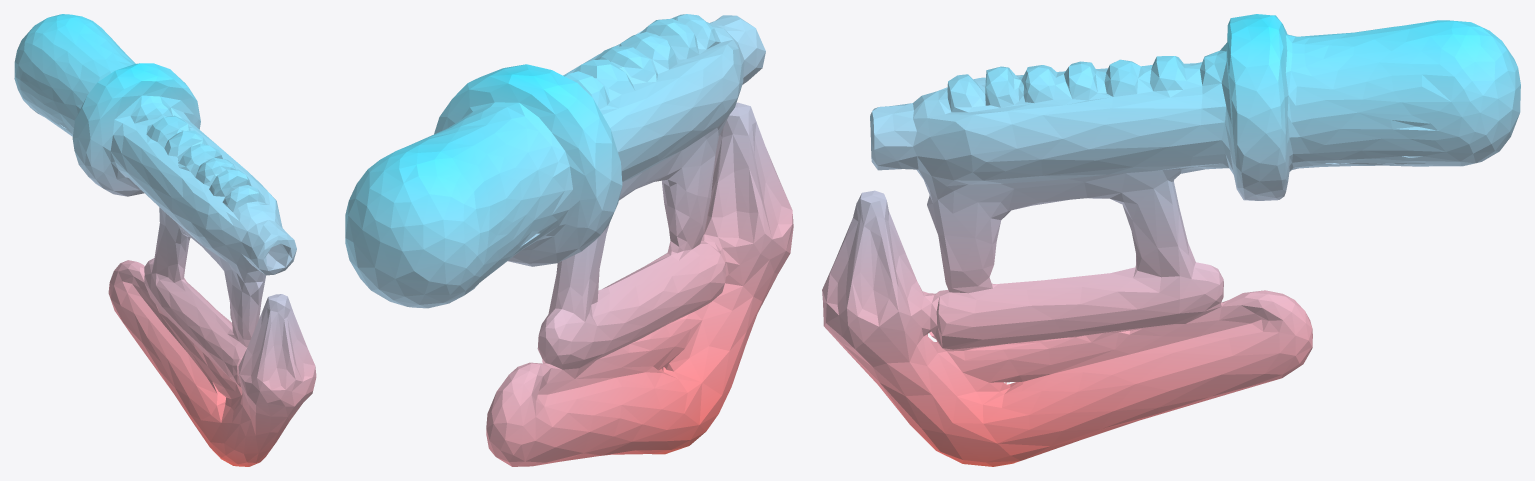
File: 131_cyb_laser_gradient_fish_scales_2846_2026_10_03_0225ed.glb
The picture shows the model from 3 angles, left to right: view 1: azimuth 30°, elevation 25°; view 2: azimuth 150°, elevation 25°; view 3: azimuth 270°, elevation 25°; orthographic projection. The views are drawn at different scales.
Parts seen in each view (by area): view 1: geometry_0; view 2: geometry_0; view 3: geometry_0.
Boxes of the visible parts, x1=… form: geometry_0: x1=14, y1=14, x2=316, y2=466; geometry_0: x1=345, y1=14, x2=793, y2=466; geometry_0: x1=822, y1=14, x2=1520, y2=466.
Size of the model in its own units: 0.2608 by 0.6981 by 1.
